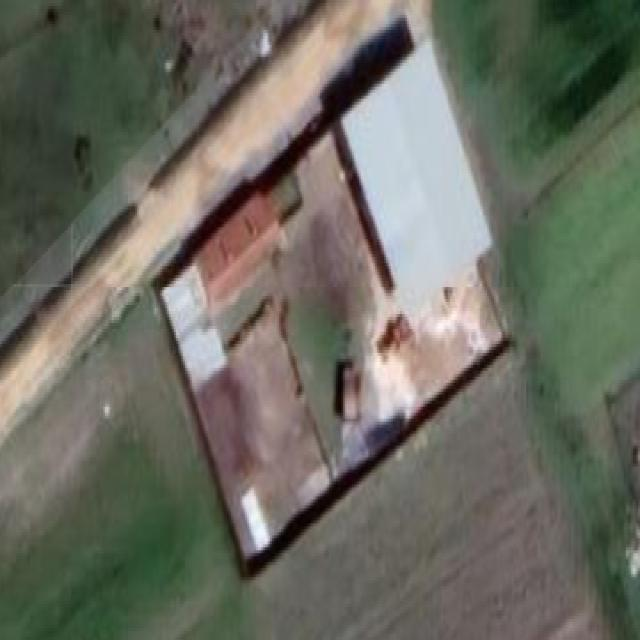Batiment: (342, 40, 491, 310), (198, 193, 280, 312)
